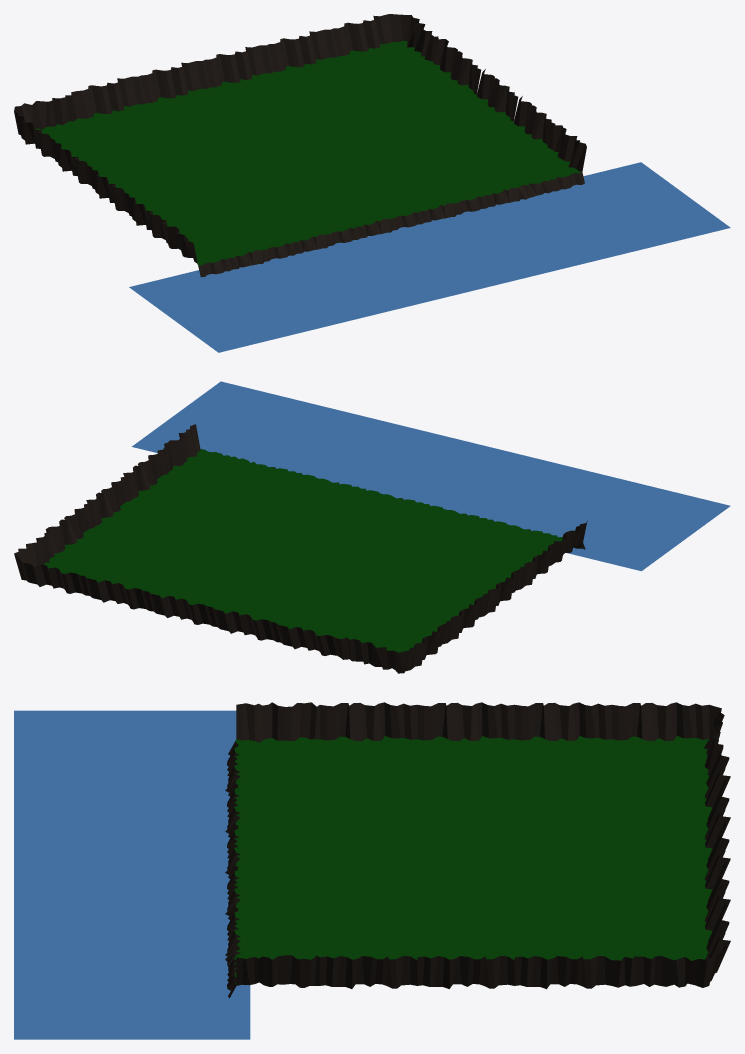
Rendered from magnus_vs_loup_garou_terrain-i8oBaAv8.glb.
The picture shows the model from 3 angles, top to bottom: view 1: azimuth 30°, elevation 25°; view 2: azimuth 150°, elevation 25°; view 3: azimuth 270°, elevation 25°; orthographic projection. The views are drawn at different scales.
Visible parts, largest first — view 1: Plane.049, Plane.065, Plane.046, Plane.045, Plane.048, Plane.042, Plane.010, Plane.044, Plane.047, Plane.043, Plane.060, Plane.015 (+56 smaller); view 2: Plane.046, Plane.048, Plane.049, Plane.042, Plane.010, Plane.044, Plane.065, Plane.045, Plane.047, Plane.056, Plane.034, Plane.073 (+50 smaller); view 3: Plane.010, Plane.043, Plane.044, Plane.045, Plane.047, Plane.048, Plane.049, Plane.065, Plane.046, Plane.042, Plane.037, Plane.050 (+50 smaller).
Boxes of the visible parts, box(x1,y1,x2,y2) form: Plane.049: box(622, 195, 730, 243); Plane.065: box(494, 226, 602, 274); Plane.046: box(302, 273, 410, 321); Plane.045: box(366, 257, 474, 305); Plane.048: box(174, 304, 282, 352); Plane.042: box(129, 271, 237, 319); Plane.010: box(558, 210, 666, 258); Plane.044: box(430, 242, 538, 290); Plane.047: box(238, 289, 346, 336); Plane.043: box(583, 162, 685, 210); Plane.060: box(275, 56, 375, 98); Plane.015: box(83, 103, 183, 145); Plane.046: box(495, 459, 602, 507); Plane.048: box(623, 490, 730, 538); Plane.049: box(176, 381, 283, 429); Plane.042: box(578, 523, 685, 571); Plane.010: box(240, 397, 347, 444); Plane.044: box(368, 428, 475, 476); Plane.065: box(304, 412, 411, 460); Plane.045: box(431, 443, 539, 491); Plane.047: box(559, 475, 666, 522); Plane.056: box(350, 561, 450, 603); Plane.034: box(323, 519, 423, 560); Plane.073: box(314, 588, 413, 630); Plane.010: box(14, 957, 132, 998); Plane.043: box(132, 998, 250, 1039); Plane.044: box(14, 875, 132, 916); Plane.045: box(14, 834, 132, 875); Plane.047: box(14, 751, 132, 792); Plane.048: box(14, 710, 132, 751); Plane.049: box(14, 998, 132, 1039); Plane.065: box(14, 916, 132, 957); Plane.046: box(14, 793, 132, 833); Plane.042: box(132, 710, 236, 751); Plane.037: box(132, 957, 250, 998); Plane.050: box(417, 736, 514, 780).
Bounding box in the file's own units: 112 × 7 × 103.
